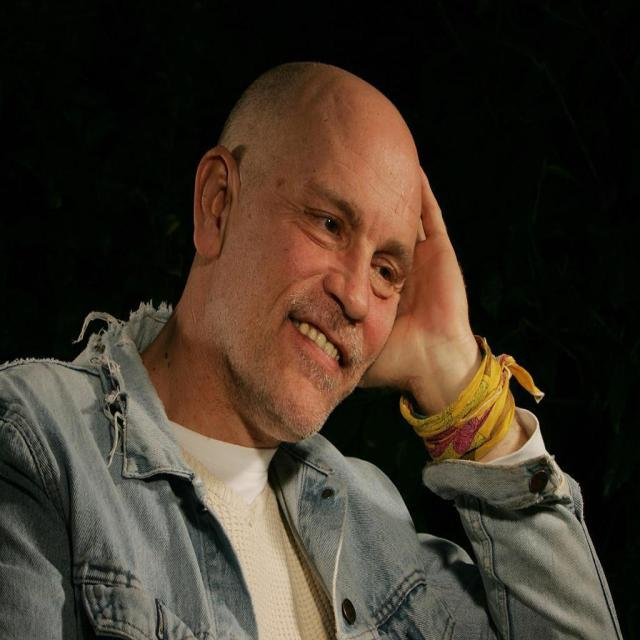no-earmuff: (192, 145, 238, 263)
